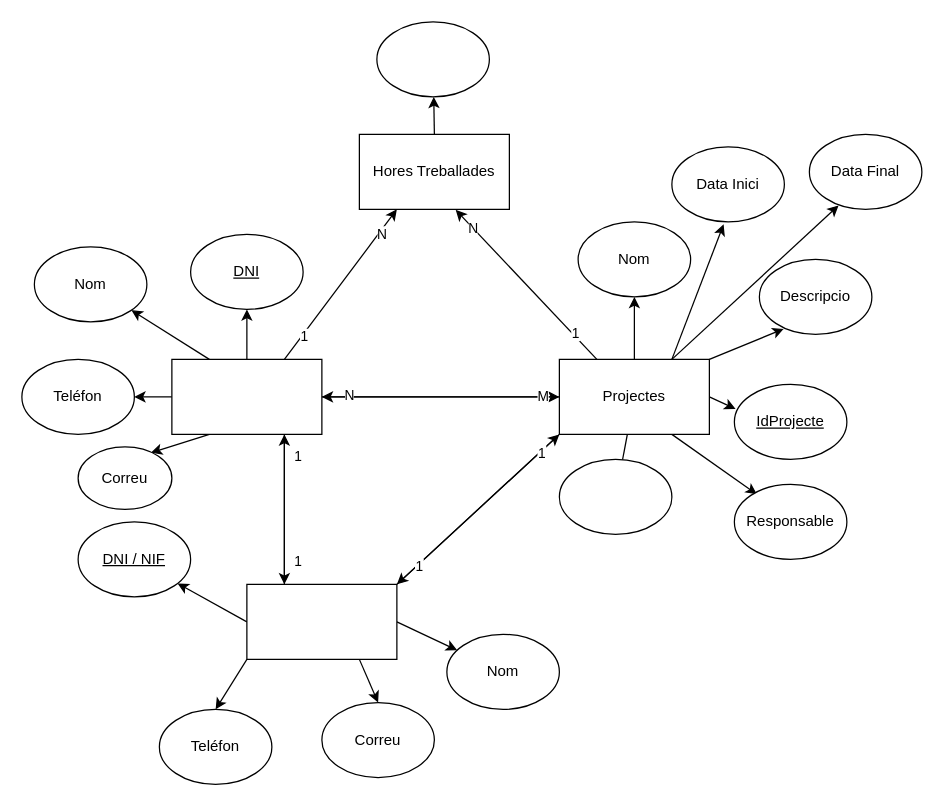
Some shapes in this 944 by 806 pixel diagram are drawn without their labels. The shapes that lost their labels are listed below. From the top down, each one's centre as x and y in pixels, then its label:
the point at 432,59: Hores
the point at 246,396: Programador
the point at 615,496: TipusProjecte
the point at 321,621: Cliente
